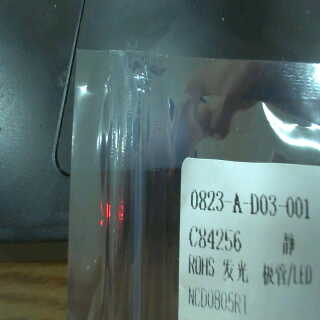LED: (222, 256, 320, 290)
